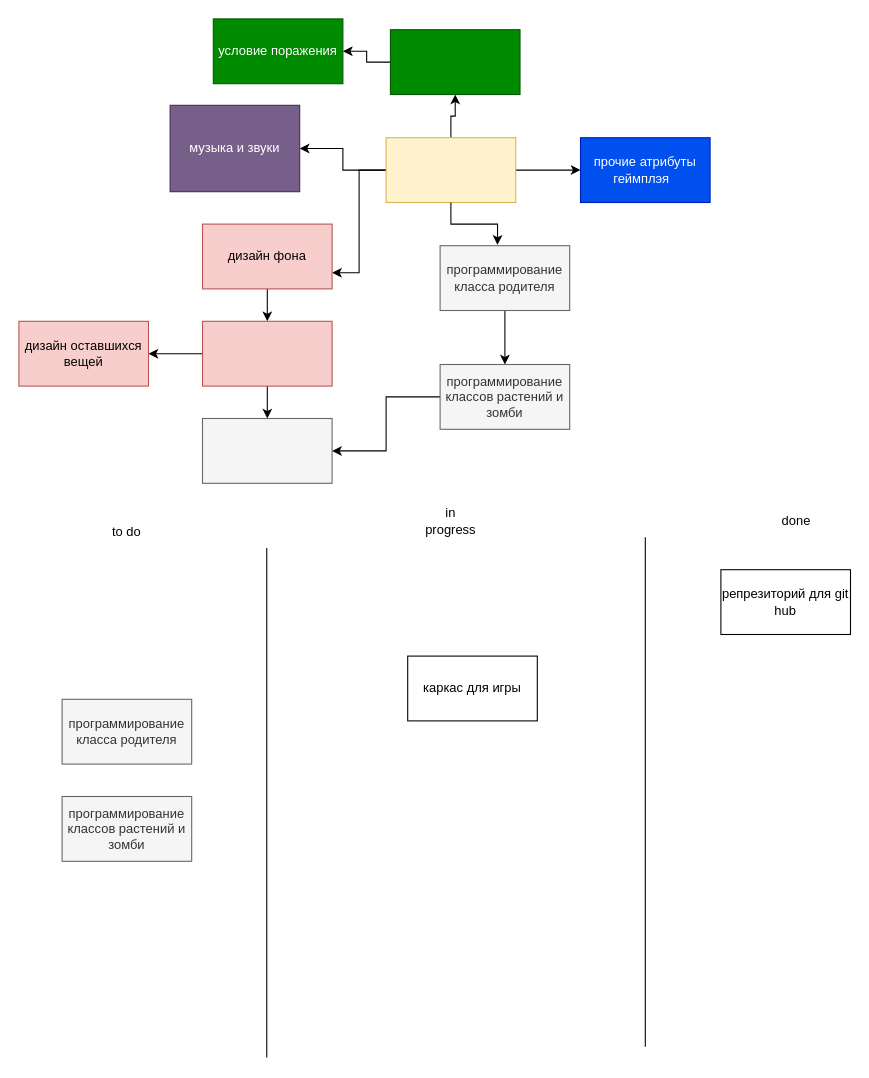
This 869x1078 diagram has some shape labels left out. The shapes that lost their labels are listed below. From the top down, each one's centre as x and y in pixels, then its label:
At [454,61]: "условие победы".
At [450,169]: "pvz".
At [266,353]: "дизайн персонажей".
At [266,450]: "анимация персонажей".
